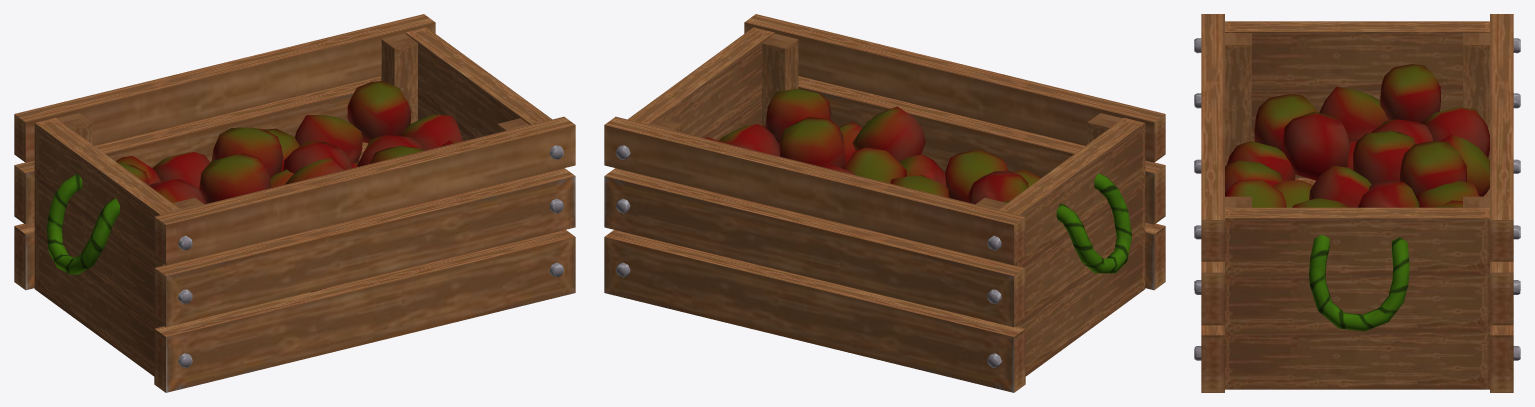
Rendered from quaternius-fantasy-props-farmcrate-apple.glb.
The picture shows the model from 3 angles, left to right: view 1: azimuth 30°, elevation 25°; view 2: azimuth 150°, elevation 25°; view 3: azimuth 270°, elevation 25°; orthographic projection. The views are drawn at different scales.
Parts seen in each view (by area): view 1: FarmCrate_Apple; view 2: FarmCrate_Apple; view 3: FarmCrate_Apple.
Part boxes in pixels (bbox=[...]): FarmCrate_Apple: bbox=[14, 14, 575, 392]; FarmCrate_Apple: bbox=[604, 14, 1165, 392]; FarmCrate_Apple: bbox=[1194, 14, 1520, 392].
Bounding box in the file's own units: 0.7 × 0.2391 × 0.4062.
Materials: 3 (3 with a texture image).
